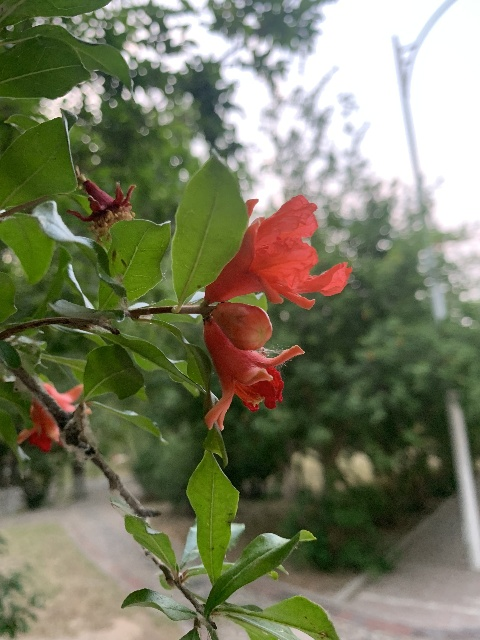bud: (210, 301, 273, 350)
flower: (205, 194, 352, 309), (202, 319, 304, 431), (16, 382, 89, 453)
